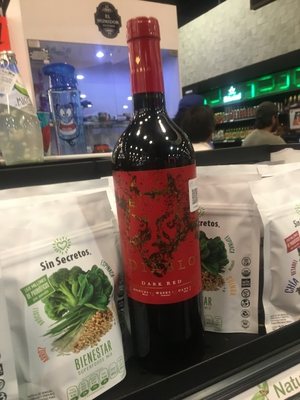diablo dark red: (100, 20, 227, 351)
